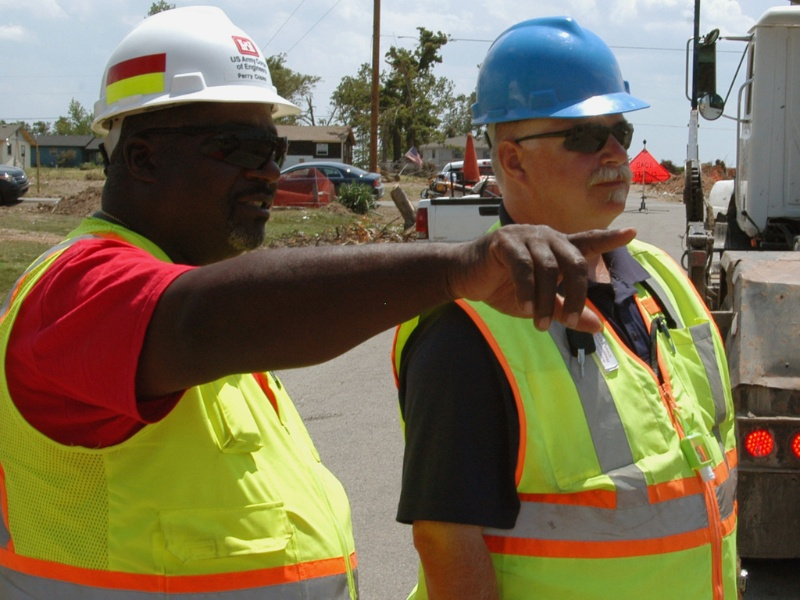Baret: (91, 4, 300, 120), (470, 15, 651, 121)
